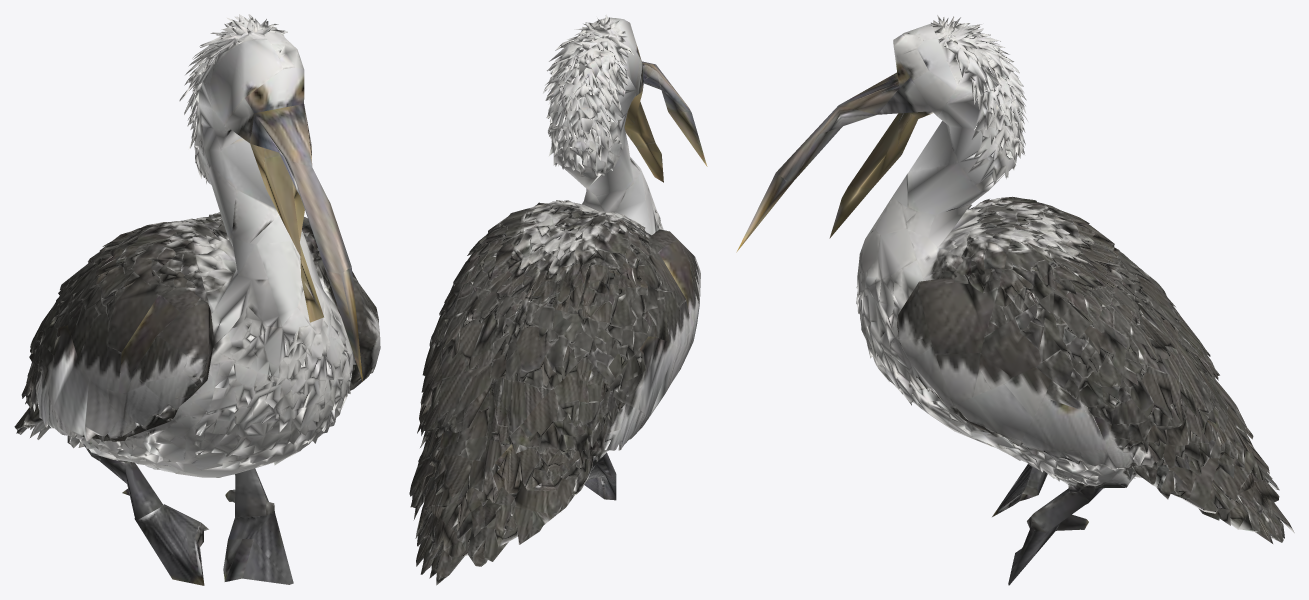
The model's file is pelican-phone.glb.
The picture shows the model from 3 angles, left to right: view 1: azimuth 30°, elevation 25°; view 2: azimuth 150°, elevation 25°; view 3: azimuth 270°, elevation 25°; orthographic projection. The views are drawn at different scales.
Size of the model in its own units: 0.8369 by 1.85 by 1.74.
1 material, 1 textured.
